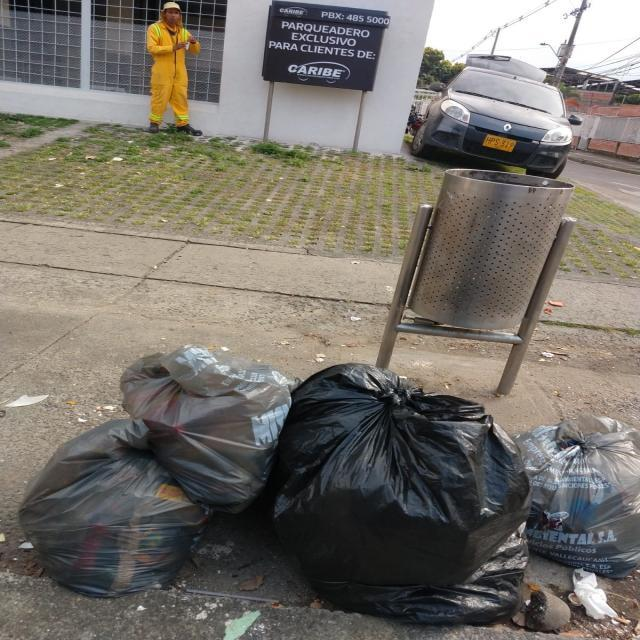high trash: (20, 346, 640, 631)
